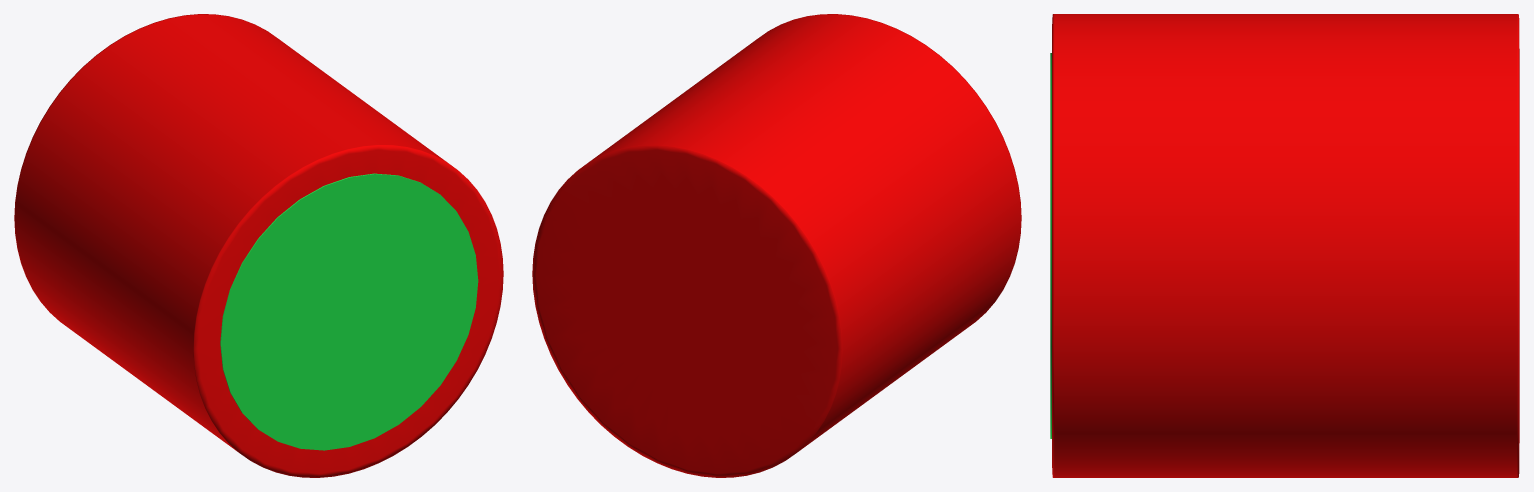
3 renders of one model, left to right at view 1: azimuth 30°, elevation 25°; view 2: azimuth 150°, elevation 25°; view 3: azimuth 270°, elevation 25°, orthographic. The views are drawn at different scales.
Visible parts, largest first — view 1: krmzı, yeşil s; view 2: krmzı; view 3: krmzı, yeşil s.
Part boxes in pixels (bbox=[...]): krmzı: bbox=[14, 14, 503, 477]; yeşil s: bbox=[220, 173, 478, 450]; krmzı: bbox=[532, 14, 1021, 477]; krmzı: bbox=[1052, 14, 1519, 477]; yeşil s: bbox=[1050, 53, 1051, 438].
Size of the model in its own units: 187 by 187 by 189.
1 material, 1 textured.
